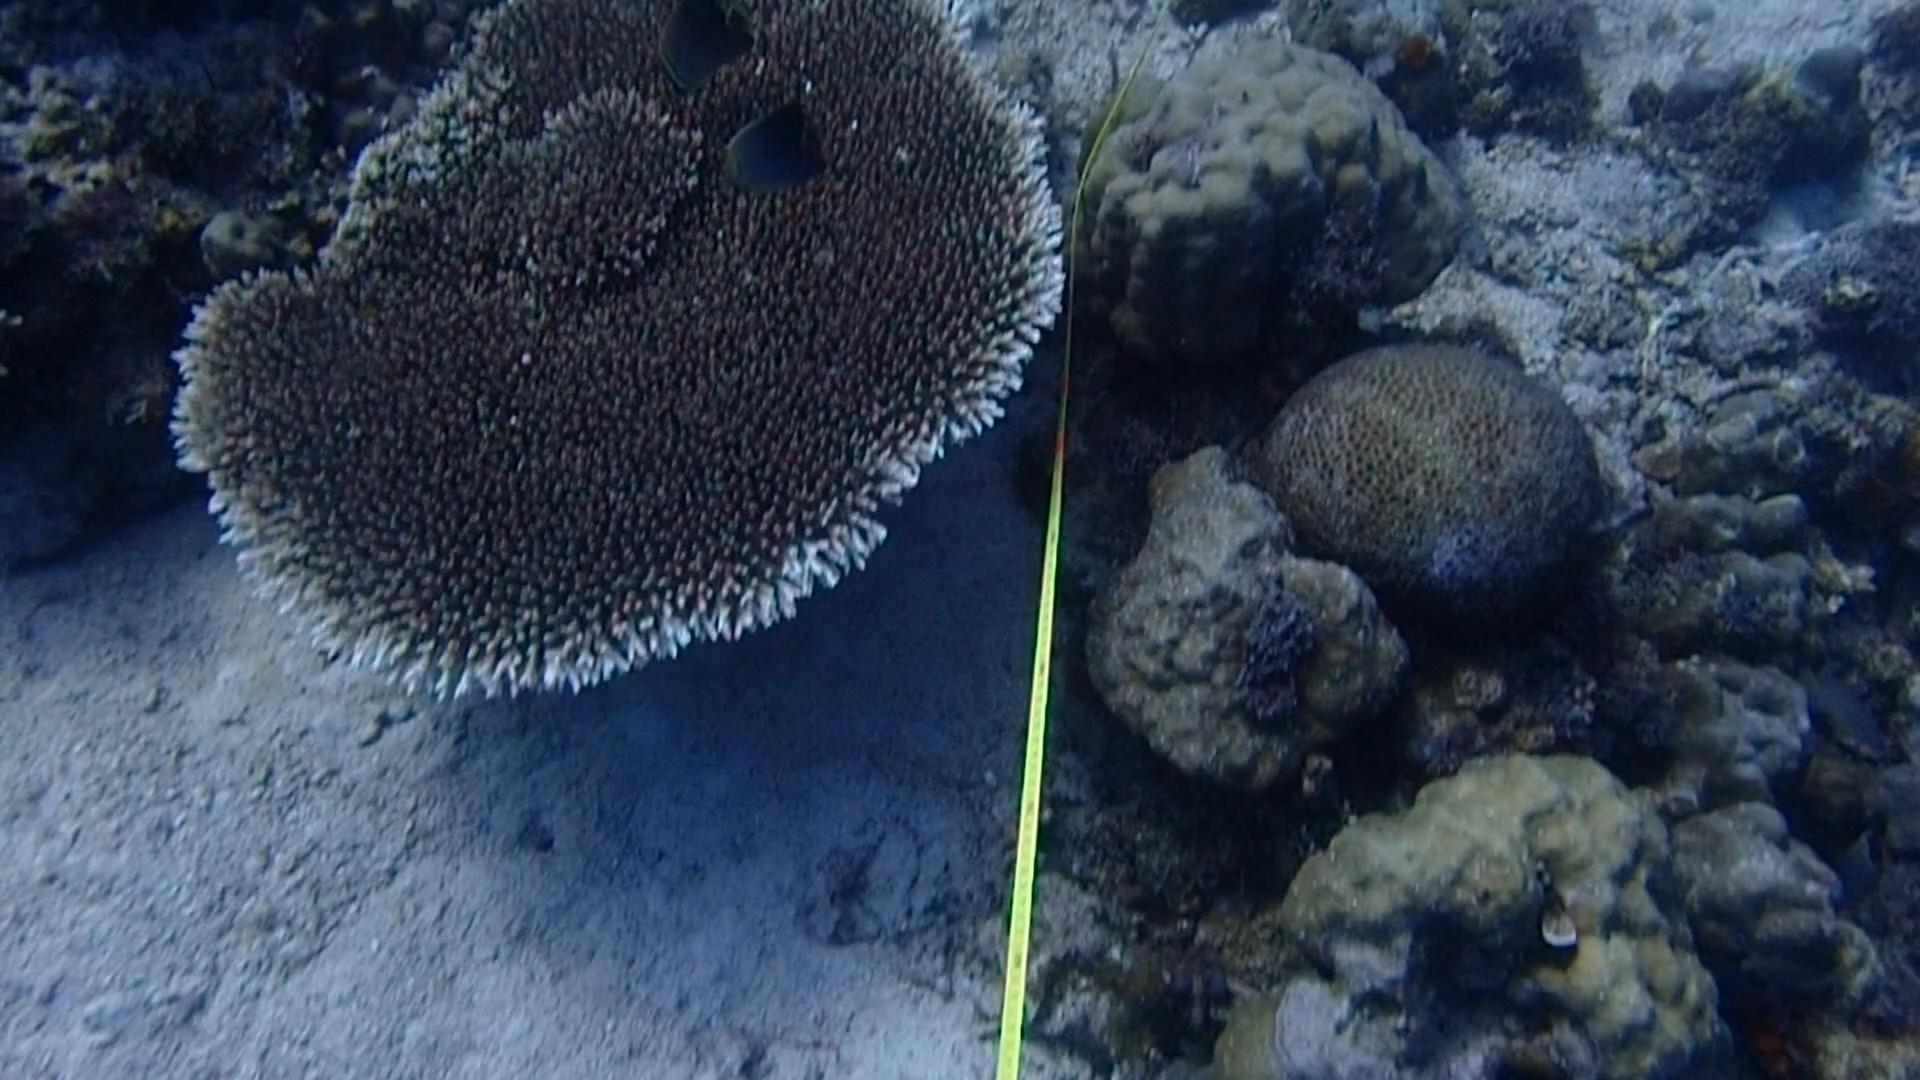Dark Blue Dory: (713, 95, 831, 202), (638, 0, 777, 82)
Light Fish: (1563, 484, 1684, 563), (1737, 944, 1850, 1007)
